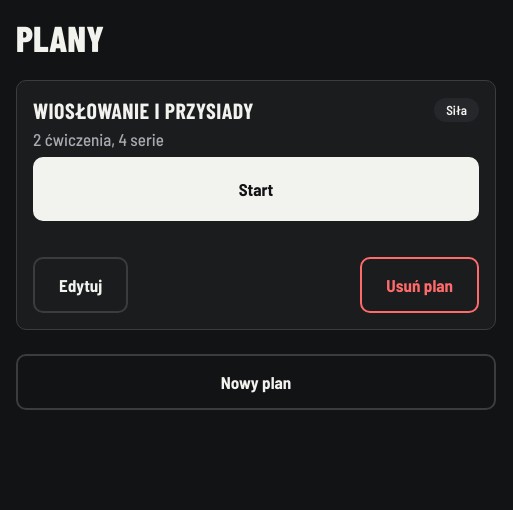
Test case: expiry notice › shows the notice when the app sits open behind a lock and the page becomes visible
Step 1. Click the button "Start" → (256, 189), box [33,157,479,221]
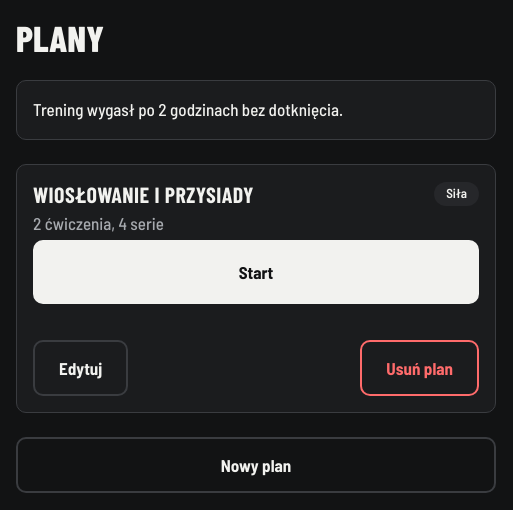
Expected: the heading "Plany" is shown, [16,16,104,59]
Now the message "Trening wygasł po 2 godzinach bez dotknięcia." is shown, box [16,80,496,140]
